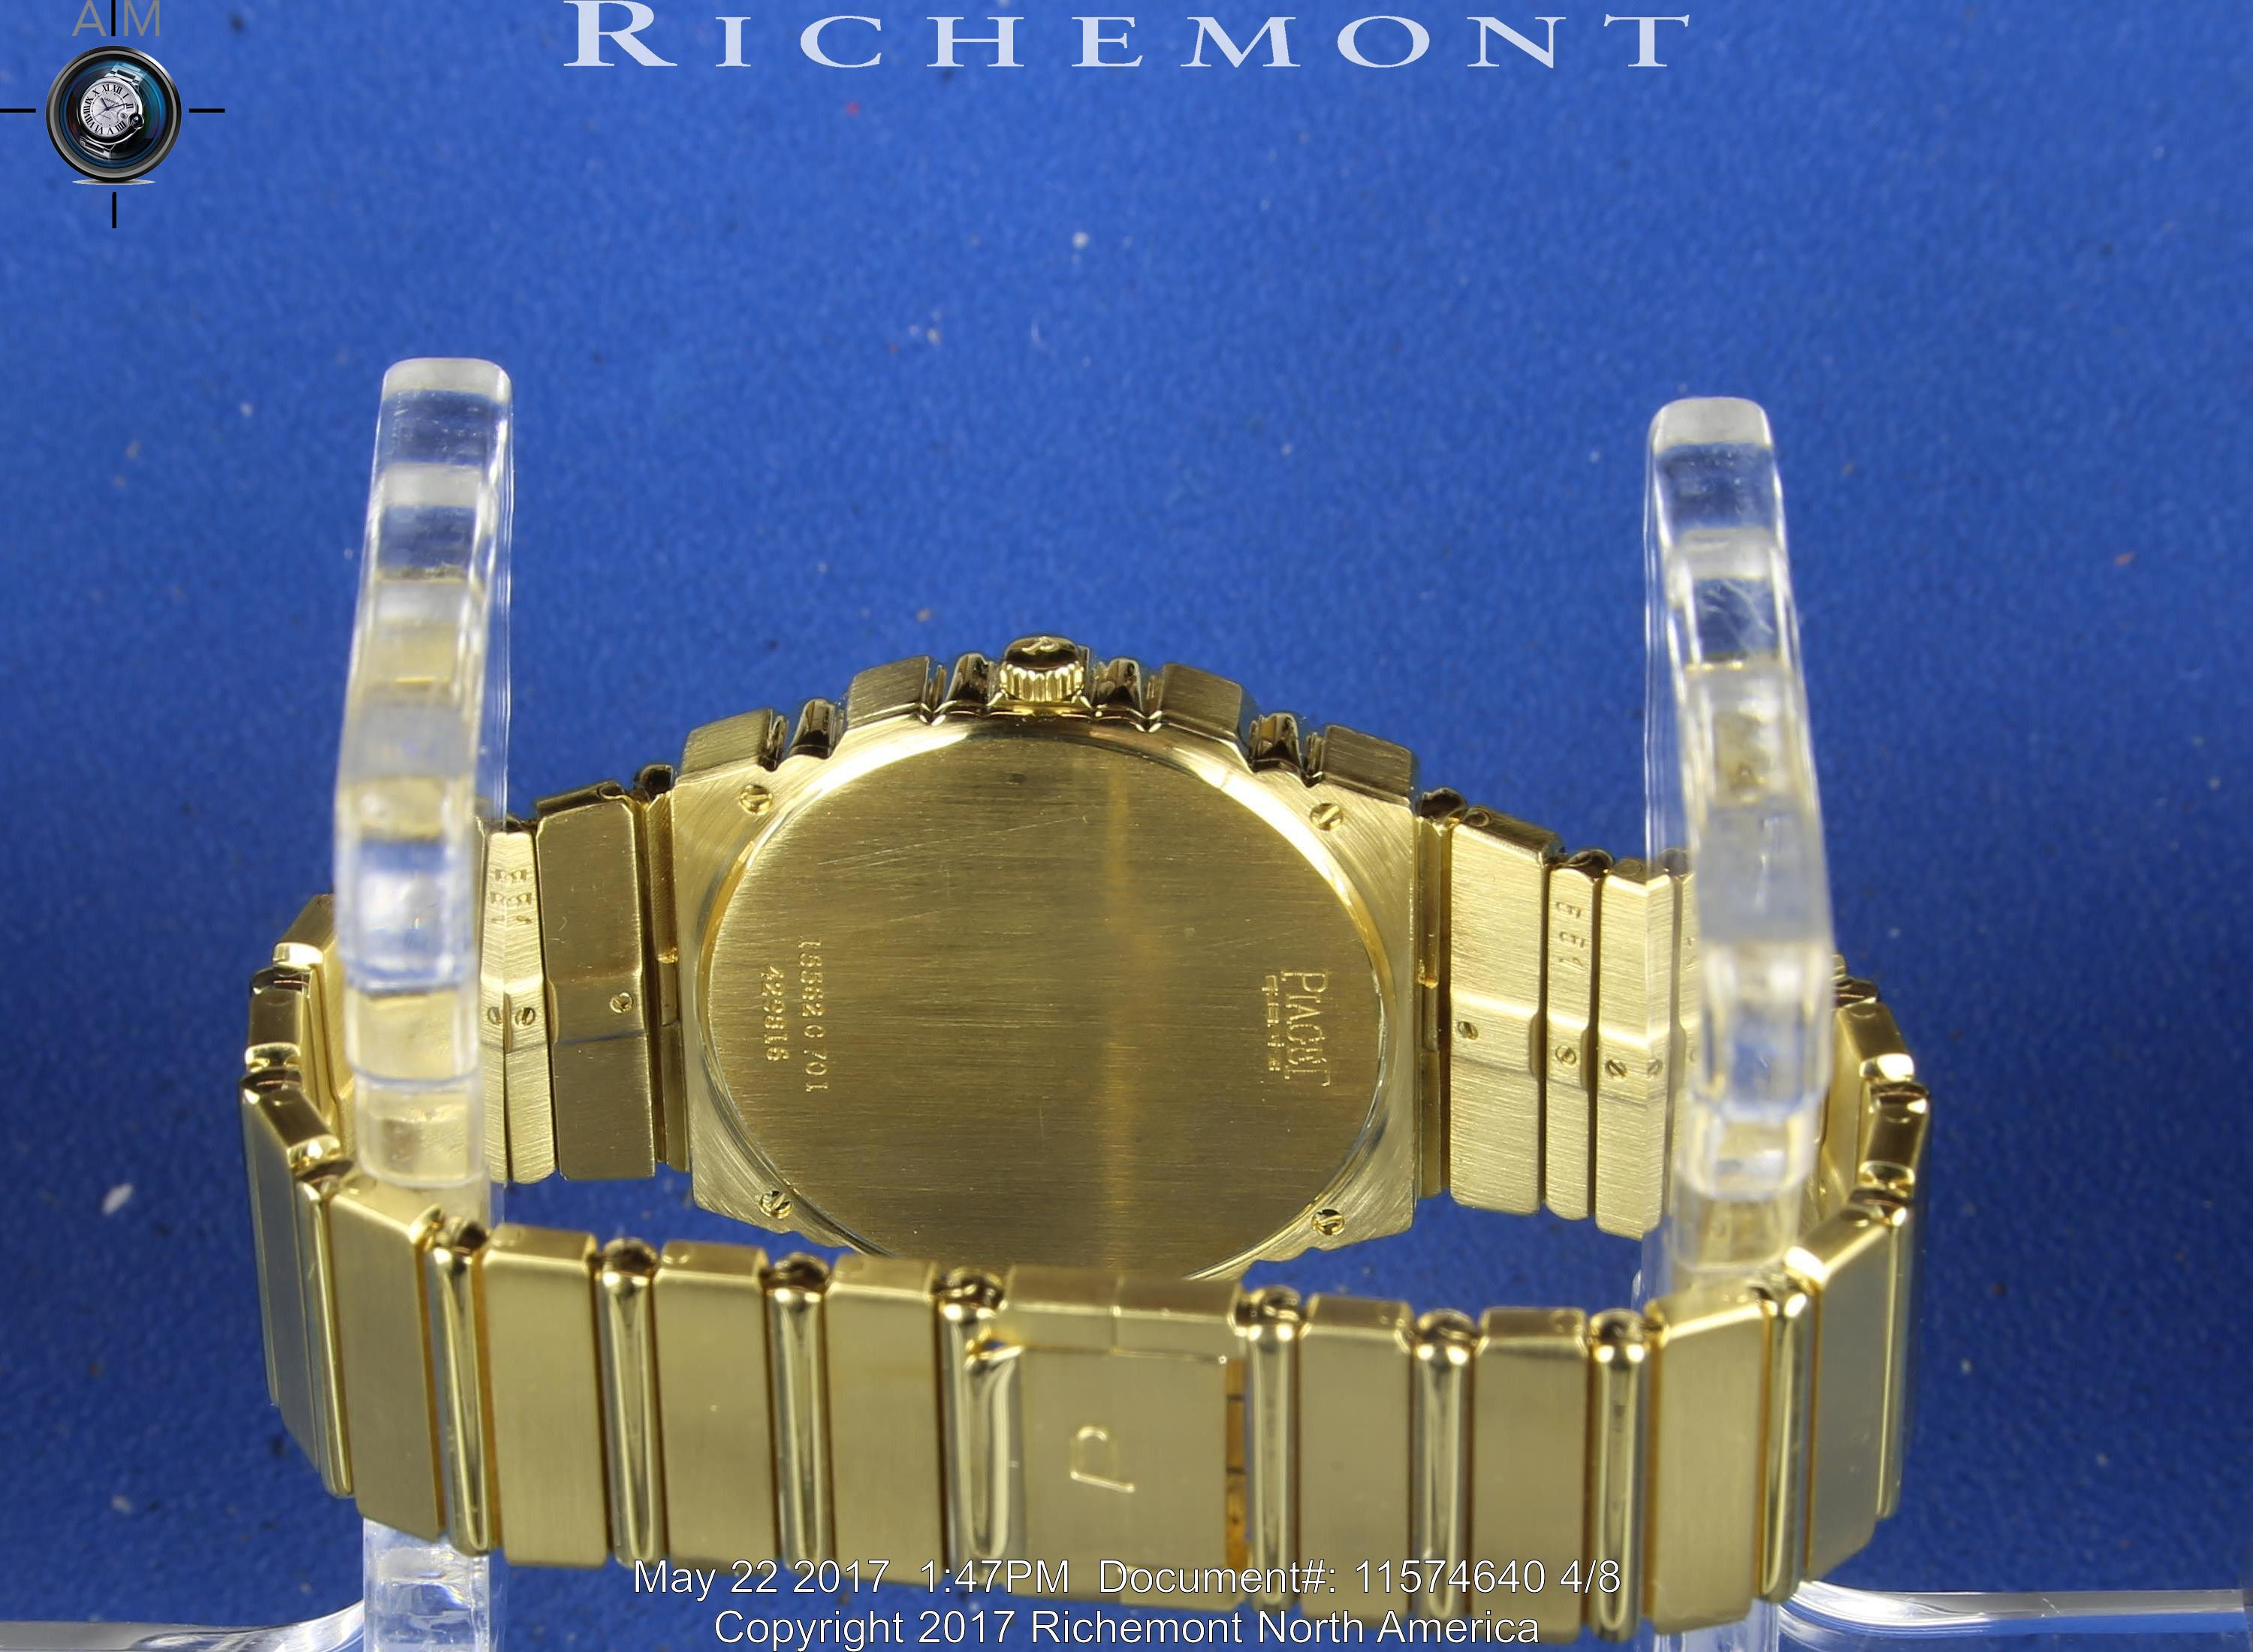Watch BackCase: (675, 629, 1436, 1276)
